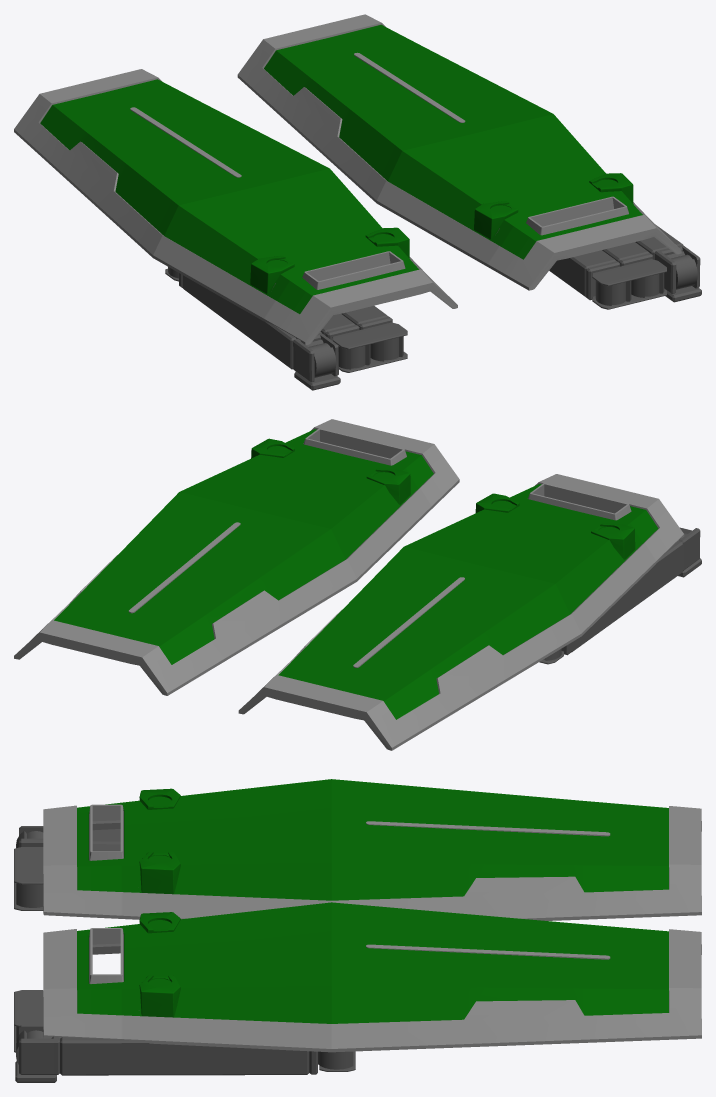
File: Cardigan Shield.fbx
3 renders of one model, top to bottom at view 1: azimuth 30°, elevation 25°; view 2: azimuth 150°, elevation 25°; view 3: azimuth 270°, elevation 25°, orthographic. The views are drawn at different scales.
Parts seen in each view (by area): view 1: polySurface14 (×2), Shield_2, Shield_1, Shield_Arm_1_Arm_1, polySurface9 (×2), Shield_Arm_2_Joint_7, Shield_Arm_1_Joint_7, polySurface10 (×2), Shield_Arm_2_Arm_3, Shield_Arm_1_Joint_2, Shield_Arm_1_Joint_1, Shield_Arm_2_Joint_1 (+5 smaller); view 2: polySurface14 (×2), Shield_2, Shield_1, Shield_Arm_1_Arm_1, polySurface9 (×2), polySurface10 (×2), Shield_Arm_1_Joint_2; view 3: polySurface14 (×2), Shield_2, Shield_1, Shield_Arm_2_Arm_1, polySurface10 (×2), Shield_Arm_2_Joint_2, polySurface9 (×2), Shield_Arm_1_Joint_7, Shield_Arm_2_Joint_7, Shield_Arm_2_Joint_3, Shield_Arm_1_Joint_8, Shield_Arm_2_Joint_1 (+1 smaller).
Part boxes in pixels (box(x1,y1,x2,y2)): polySurface14 (×2): box(40, 24, 642, 314); Shield_2: box(237, 14, 681, 290); Shield_1: box(14, 69, 457, 344); Shield_Arm_1_Arm_1: box(183, 275, 321, 369); polySurface9 (×2): box(250, 201, 518, 293); Shield_Arm_2_Joint_7: box(592, 259, 666, 309); Shield_Arm_1_Joint_7: box(332, 322, 407, 372); polySurface10 (×2): box(365, 173, 633, 258); Shield_Arm_2_Arm_3: box(549, 250, 615, 297); Shield_Arm_1_Joint_2: box(293, 333, 338, 382); Shield_Arm_1_Joint_1: box(294, 339, 340, 390); Shield_Arm_2_Joint_1: box(665, 251, 701, 302); polySurface14 (×2): box(54, 429, 658, 719); Shield_2: box(14, 419, 459, 695); Shield_1: box(238, 474, 684, 750); Shield_Arm_1_Arm_1: box(571, 541, 682, 652); polySurface9 (×2): box(366, 468, 635, 559); polySurface10 (×2): box(251, 438, 519, 512); Shield_Arm_1_Joint_2: box(679, 528, 700, 570); polySurface14 (×2): box(77, 779, 668, 1023); Shield_2: box(43, 928, 701, 1052); Shield_1: box(43, 804, 701, 920); Shield_Arm_2_Arm_1: box(60, 1037, 309, 1075); polySurface10 (×2): box(139, 852, 180, 1017); Shield_Arm_2_Joint_2: box(19, 1025, 59, 1074); polySurface9 (×2): box(139, 788, 180, 933); Shield_Arm_1_Joint_7: box(14, 847, 43, 910); Shield_Arm_2_Joint_7: box(14, 990, 43, 1052); Shield_Arm_2_Joint_3: box(309, 1051, 353, 1074); Shield_Arm_1_Joint_8: box(16, 883, 43, 907); Shield_Arm_2_Joint_1: box(15, 1030, 56, 1082).
Bounding box in the file's own units: 23.92 × 4.41 × 29.6.
